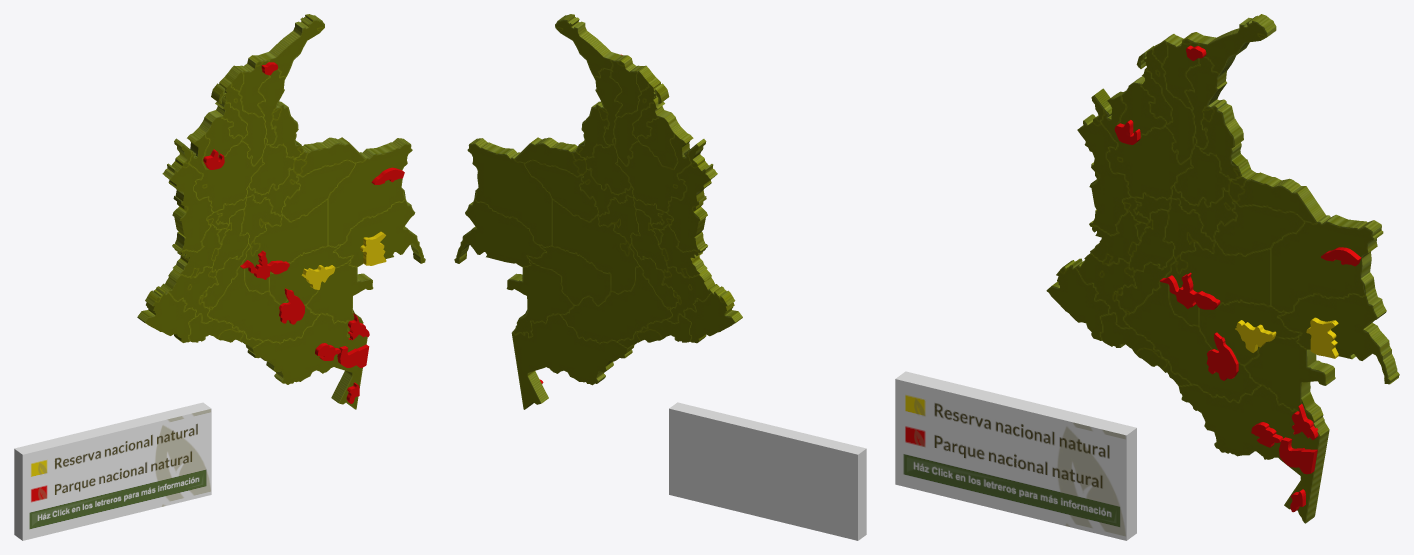
Rendered from mapa.fbx.
The picture shows the model from 3 angles, left to right: view 1: azimuth 30°, elevation 25°; view 2: azimuth 150°, elevation 25°; view 3: azimuth 330°, elevation 25°; orthographic projection. The views are drawn at different scales.
Parts seen in each view (by area): view 1: polySurface164; view 2: polySurface164; view 3: polySurface164.
Part boxes in pixels (bbox=[...]): polySurface164: bbox=[14, 14, 425, 540]; polySurface164: bbox=[454, 14, 866, 540]; polySurface164: bbox=[895, 14, 1399, 540].
Bounding box in the file's own units: 23.07 × 1.05 × 24.53.
